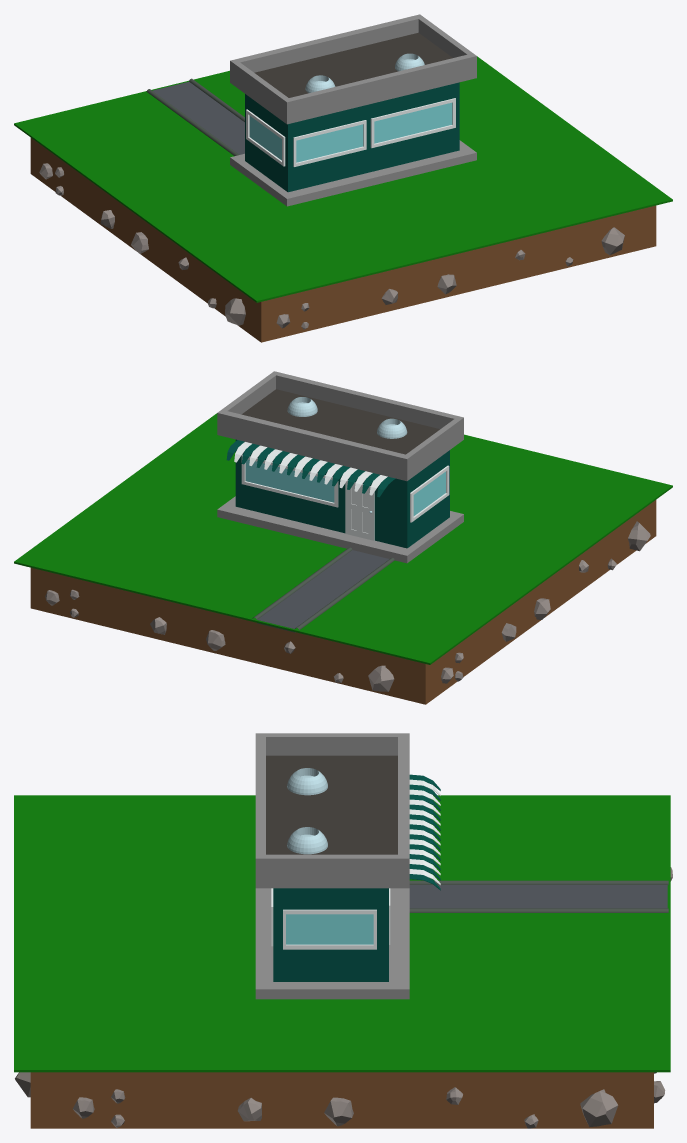
Rendered from mar.fbx.
The picture shows the model from 3 angles, top to bottom: view 1: azimuth 30°, elevation 25°; view 2: azimuth 150°, elevation 25°; view 3: azimuth 270°, elevation 25°; orthographic projection. The views are drawn at different scales.
Visible parts, largest first — view 1: Cube.006_Cube.041, kiosk_Cube.002_kiosk_Cube.003, Cylinder.001; view 2: Cube.006_Cube.041, kiosk_Cube.002_kiosk_Cube.003, Cylinder.001, Rock2.063_Mesh.063; view 3: Cube.006_Cube.041, kiosk_Cube.002_kiosk_Cube.003, Cylinder.001, Rock2.055_Mesh.055, Rock2.051_Mesh.051.
Part boxes in pixels (x1=…): Cube.006_Cube.041: x1=14, y1=56, x2=672, y2=342; kiosk_Cube.002_kiosk_Cube.003: x1=230, y1=14, x2=476, y2=206; Cylinder.001: x1=146, y1=78, x2=244, y2=155; Cube.006_Cube.041: x1=14, y1=413, x2=672, y2=704; kiosk_Cube.002_kiosk_Cube.003: x1=217, y1=371, x2=463, y2=563; Cylinder.001: x1=252, y1=547, x2=394, y2=632; Rock2.063_Mesh.063: x1=368, y1=665, x2=394, y2=691; Cube.006_Cube.041: x1=14, y1=795, x2=670, y2=1128; kiosk_Cube.002_kiosk_Cube.003: x1=255, y1=733, x2=440, y2=999; Cylinder.001: x1=409, y1=880, x2=668, y2=912; Rock2.055_Mesh.055: x1=580, y1=1089, x2=618, y2=1127; Rock2.051_Mesh.051: x1=324, y1=1097, x2=353, y2=1126.
Size of the model in its own units: 1423 by 492 by 1423.
